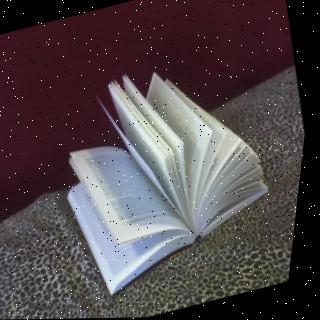book: (31, 36, 312, 306)
